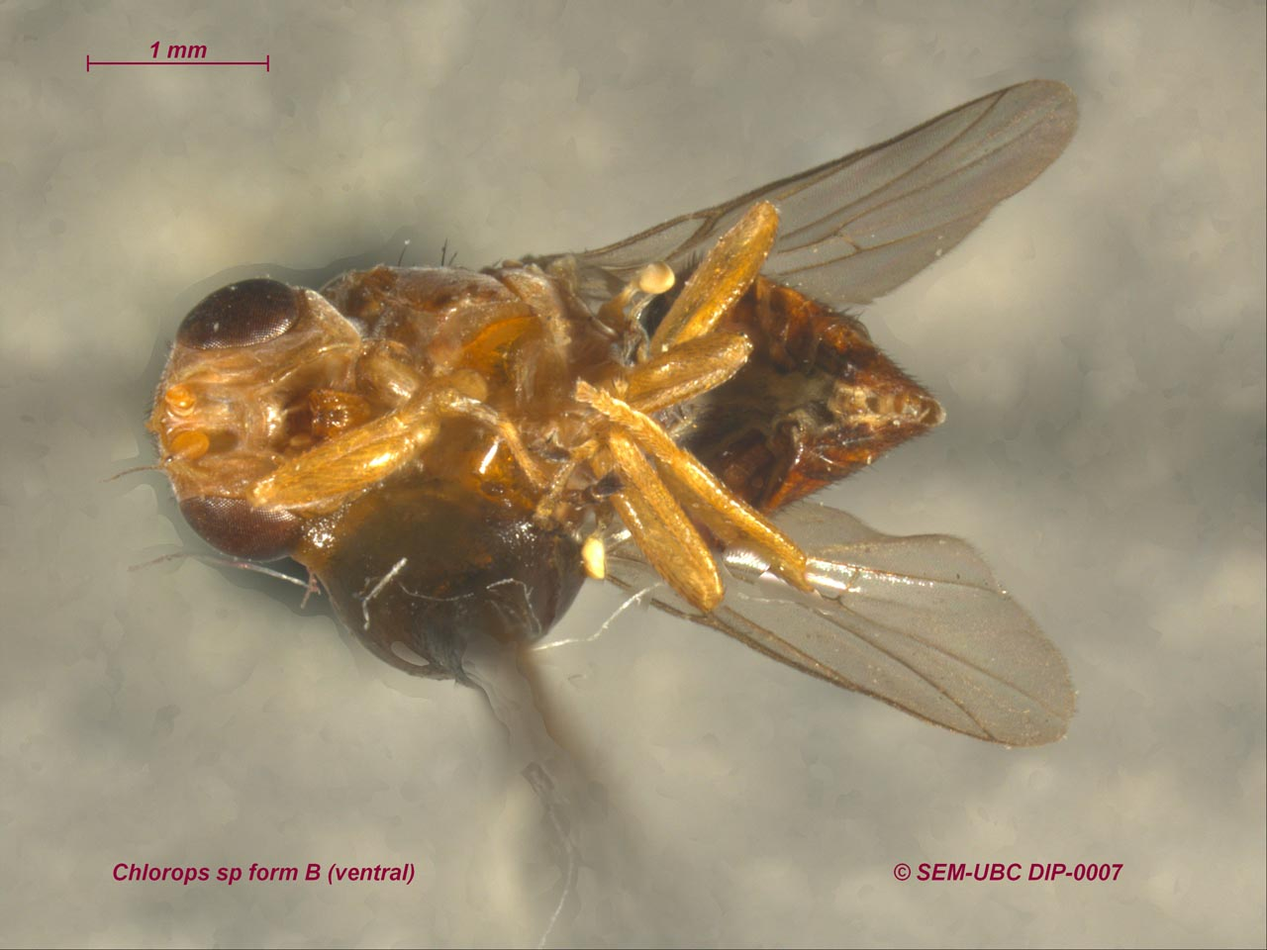Chloropidae: (127, 75, 1099, 843)
